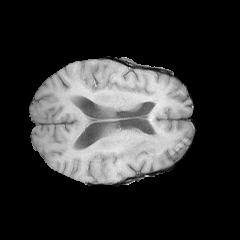glioma: (94, 130, 172, 160)
